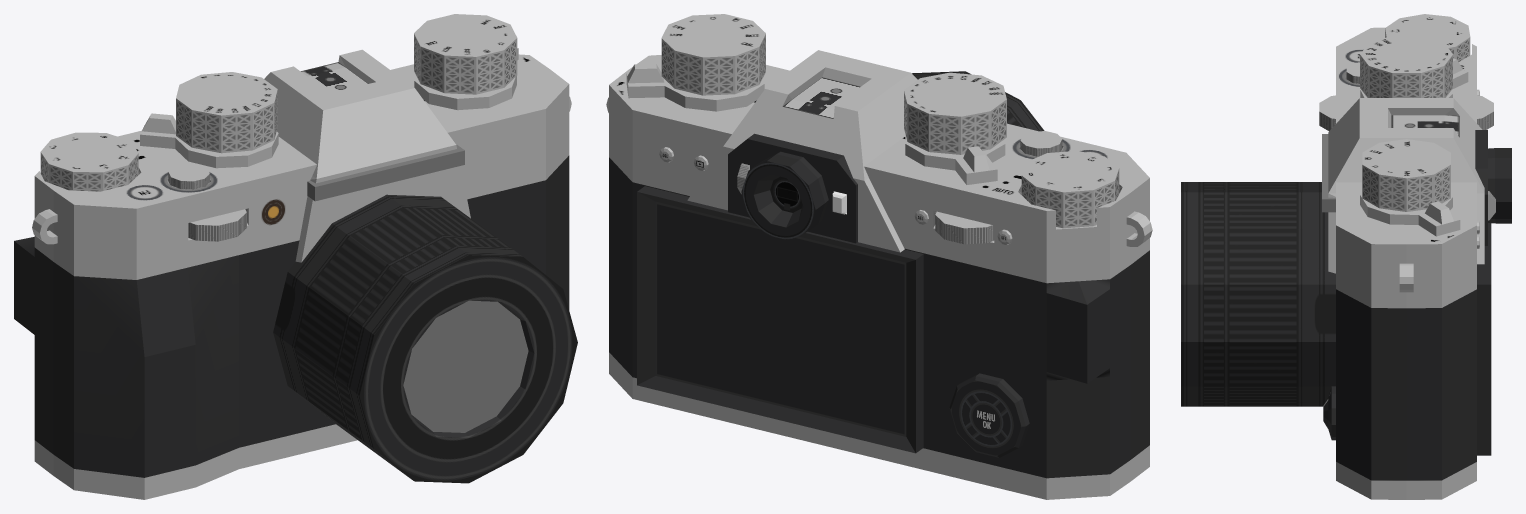
File: Camera .obj
3 renders of one model, left to right at view 1: azimuth 30°, elevation 25°; view 2: azimuth 150°, elevation 25°; view 3: azimuth 270°, elevation 25°, orthographic. The views are drawn at different scales.
Parts seen in each view (by area): view 1: Camera, Glass, Button10, Button8, Button2, Button7, Button12, Button11, Button; view 2: Camera, Button10, Button8, Button2, Button12, Button7, Button9, Button; view 3: Camera, Button10, Button8, Button2, Button12, Button11, Button9, Button7.
Part boxes in pixels (left/top/right/bottom): Camera: left=14, top=49, right=577, bottom=499; Glass: left=403, top=300, right=528, bottom=432; Button10: left=414, top=14, right=517, bottom=94; Button8: left=176, top=72, right=277, bottom=153; Button2: left=40, top=132, right=138, bottom=191; Button7: left=140, top=113, right=278, bottom=168; Button12: left=414, top=48, right=518, bottom=110; Button11: left=188, top=209, right=246, bottom=241; Button: left=168, top=164, right=209, bottom=189; Camera: left=606, top=50, right=1152, bottom=499; Button10: left=661, top=14, right=765, bottom=95; Button8: left=904, top=72, right=1006, bottom=154; Button2: left=1021, top=151, right=1119, bottom=228; Button12: left=626, top=64, right=764, bottom=111; Button7: left=905, top=134, right=1005, bottom=184; Button9: left=935, top=211, right=994, bottom=244; Button: left=1020, top=131, right=1062, bottom=156; Camera: left=1181, top=27, right=1511, bottom=499; Button10: left=1362, top=139, right=1450, bottom=211; Button8: left=1360, top=35, right=1452, bottom=97; Button2: left=1385, top=14, right=1470, bottom=61; Button12: left=1360, top=193, right=1460, bottom=236; Button11: left=1319, top=95, right=1335, bottom=130; Button9: left=1477, top=95, right=1493, bottom=129; Button7: left=1360, top=58, right=1468, bottom=97.
Size of the model in its own units: 390 by 238 by 235.
2 materials, 1 textured.
